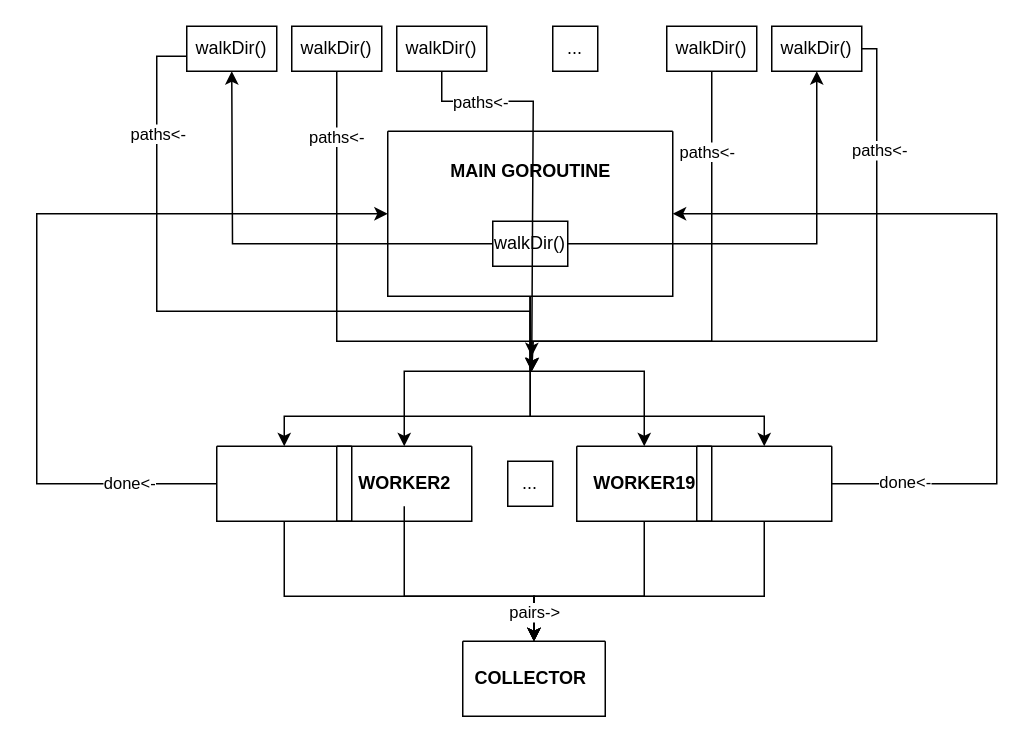
Image size: 1035x743. Some labels were removed from this diagram. The centre of each missing label's shape, as x and y in pixels:
WORKER1: pixel 283 483
WORKER20: pixel 763 483
